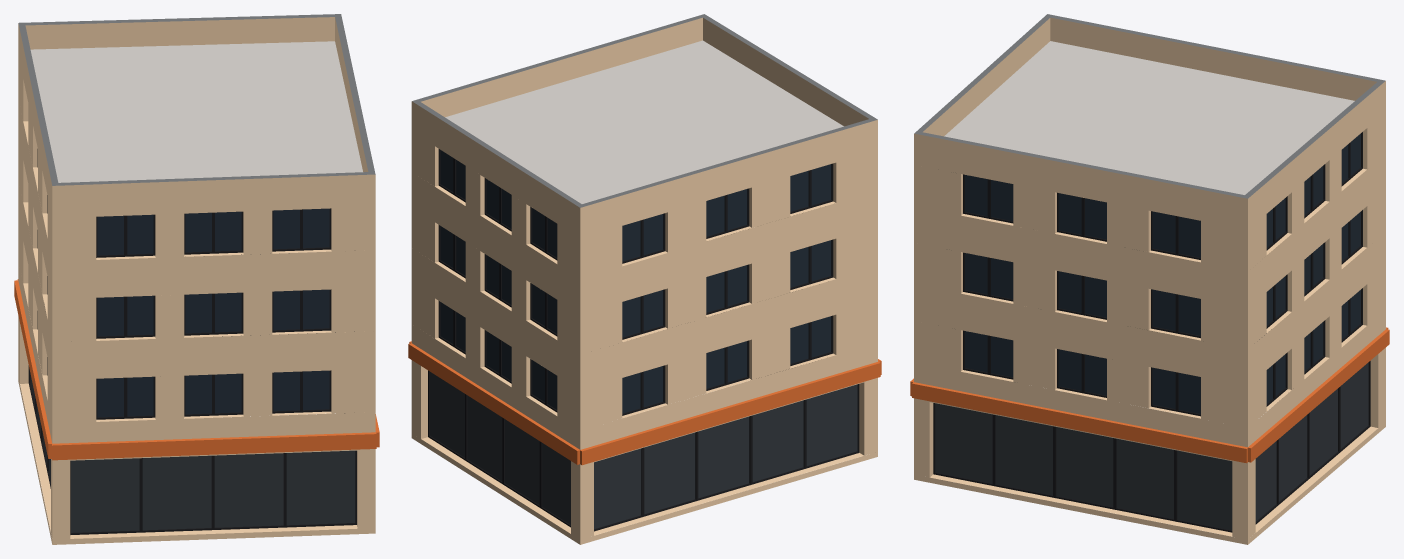
File: brick611.glb
3 views of the same model, side by side, from view 1: azimuth 30°, elevation 25°; view 2: azimuth 150°, elevation 25°; view 3: azimuth 270°, elevation 25° (orthographic). The views are drawn at different scales.
Parts seen in each view (by area): view 1: brick611; view 2: brick611; view 3: brick611.
Boxes of the visible parts, <box> form: brick611: <box>14,14,379,544</box>; brick611: <box>408,14,881,544</box>; brick611: <box>910,14,1389,544</box>.
Bounding box in the file's own units: 15.49 × 13.3 × 16.7.
